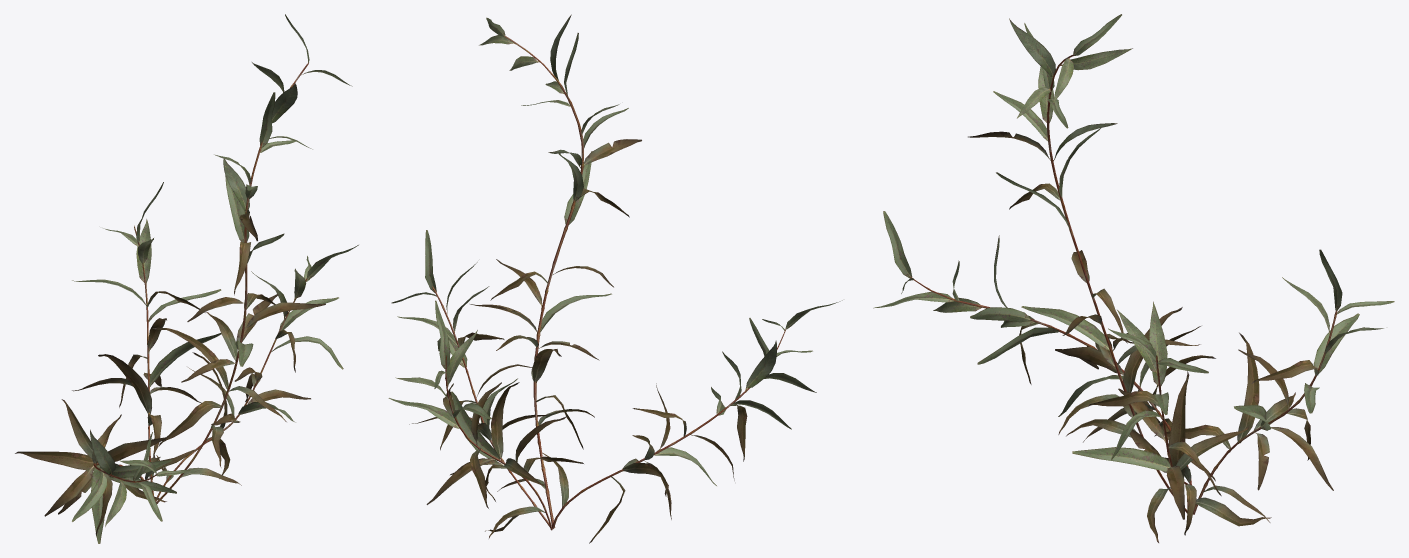
File: shrub_02_b.glb
The picture shows the model from 3 angles, left to right: view 1: azimuth 30°, elevation 25°; view 2: azimuth 150°, elevation 25°; view 3: azimuth 270°, elevation 25°; orthographic projection. The views are drawn at different scales.
Visible parts, largest first — view 1: shrub_02_b; view 2: shrub_02_b; view 3: shrub_02_b.
Boxes of the visible parts, box(x1,y1,x2,y2) form: shrub_02_b: box(15, 14, 358, 543); shrub_02_b: box(388, 14, 842, 543); shrub_02_b: box(873, 14, 1394, 542).
Size of the model in its own units: 1.11 by 1.51 by 1.28.
Materials: 1 (1 with a texture image).
